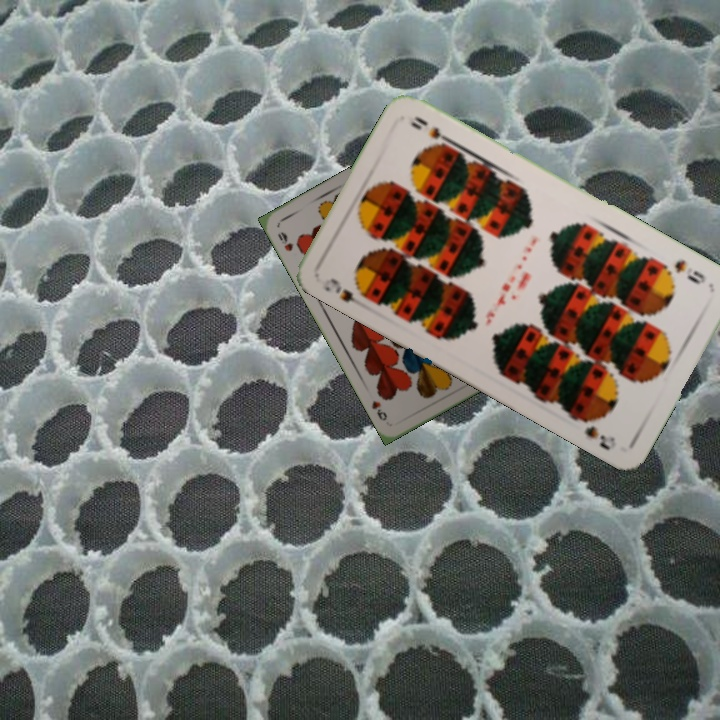H9: (273, 227, 296, 254)
S9: (319, 274, 372, 312), (670, 255, 708, 287)
